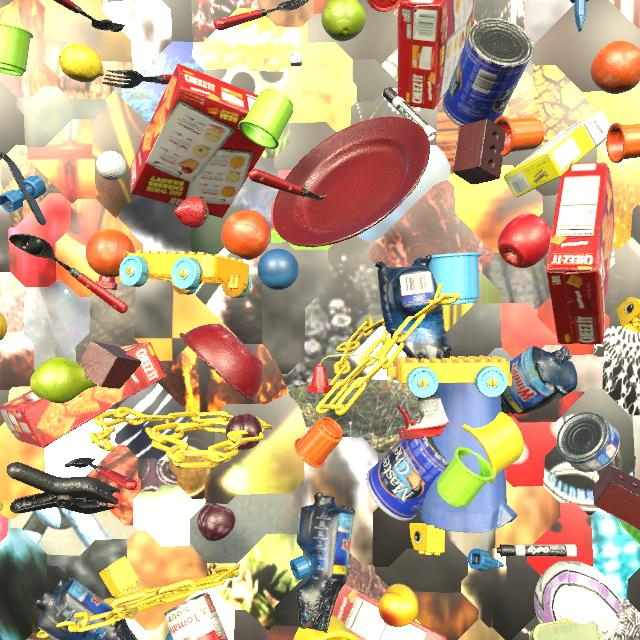ycb_002_master_chef_can: (443, 18, 534, 126), (366, 437, 449, 521)
ycb_003_cracker_box: (130, 63, 265, 218), (0, 341, 166, 448), (546, 162, 615, 345), (397, 0, 475, 110), (332, 585, 448, 640)
ycb_004_sugar_box: (503, 110, 611, 198)
ycb_005_tomato_soup_can: (164, 592, 228, 640)
ycb_007_tuna_fish_can: (556, 412, 620, 473)
ycb_010_potted_meat_can: (529, 619, 602, 640)
ycb_012_strawberry: (174, 197, 209, 228)
ycb_013_apple: (497, 213, 552, 268)
ycb_014_lemon: (59, 44, 104, 83)
ycb_015_peach: (378, 584, 419, 627), (0, 313, 7, 340)
ycb_016_pear: (30, 357, 97, 403), (321, 0, 366, 41)
ycb_017_orange: (590, 41, 640, 94), (221, 210, 271, 260), (86, 229, 135, 278)
ycb_018_plum: (197, 503, 235, 541), (226, 414, 262, 450)
